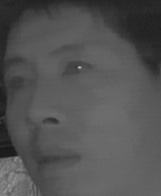eye: (59, 59, 95, 80), (2, 75, 33, 94)
mouth: (29, 141, 84, 178)
